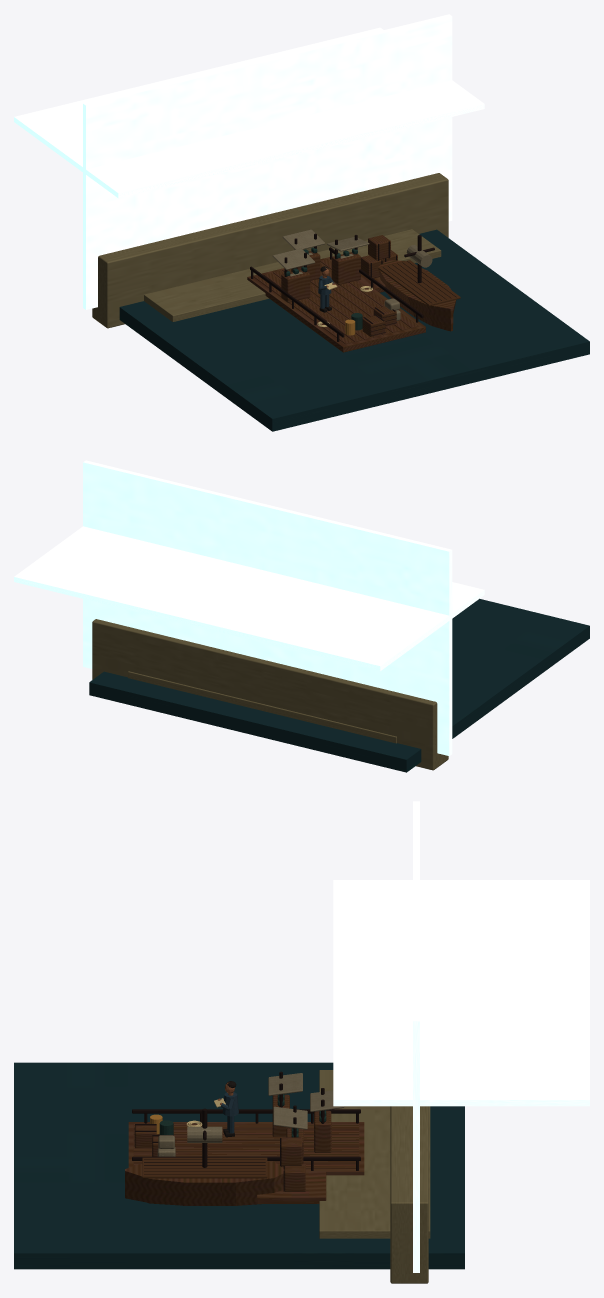
The model's file is room.glb.
The picture shows the model from 3 angles, top to bottom: view 1: azimuth 30°, elevation 25°; view 2: azimuth 150°, elevation 25°; view 3: azimuth 270°, elevation 25°; orthographic projection. The views are drawn at different scales.
Parts seen in each view (by area): view 1: Open sky backdrop, Harbor water, Sandy shore bank, Dermaga, Moored ship hull, Lapak pasar.001, Dermaga.009, Ship mast; view 2: Open sky backdrop, Harbor water, Sandy shore bank; view 3: Open sky backdrop, Harbor water, Sandy shore bank, Dermaga, Moored ship hull, Dermaga.009, Lapak pasar.001, Ship mast.
Part boxes in pixels (x1=…): Open sky backdrop: x1=14, y1=14, x2=484, y2=309; Harbor water: x1=119, y1=229, x2=589, y2=431; Sandy shore bank: x1=92, y1=173, x2=448, y2=328; Dermaga: x1=247, y1=235, x2=425, y2=352; Moored ship hull: x1=378, y1=260, x2=460, y2=331; Lapak pasar.001: x1=272, y1=229, x2=400, y2=320; Dermaga.009: x1=250, y1=233, x2=423, y2=341; Ship mast: x1=383, y1=235, x2=456, y2=302; Open sky backdrop: x1=14, y1=460, x2=484, y2=756; Harbor water: x1=89, y1=598, x2=589, y2=772; Sandy shore bank: x1=92, y1=619, x2=448, y2=770; Open sky backdrop: x1=333, y1=801, x2=589, y2=1272; Harbor water: x1=14, y1=1062, x2=464, y2=1269; Sandy shore bank: x1=319, y1=1070, x2=430, y2=1283; Dermaga: x1=128, y1=1094, x2=364, y2=1203; Moored ship hull: x1=125, y1=1157, x2=284, y2=1205; Dermaga.009: x1=132, y1=1071, x2=360, y2=1191; Lapak pasar.001: x1=157, y1=1073, x2=344, y2=1156; Ship mast: x1=144, y1=1108, x2=265, y2=1174.
Size of the model in its own units: 15 by 9.85 by 16.6.
12 materials, 12 textured.
